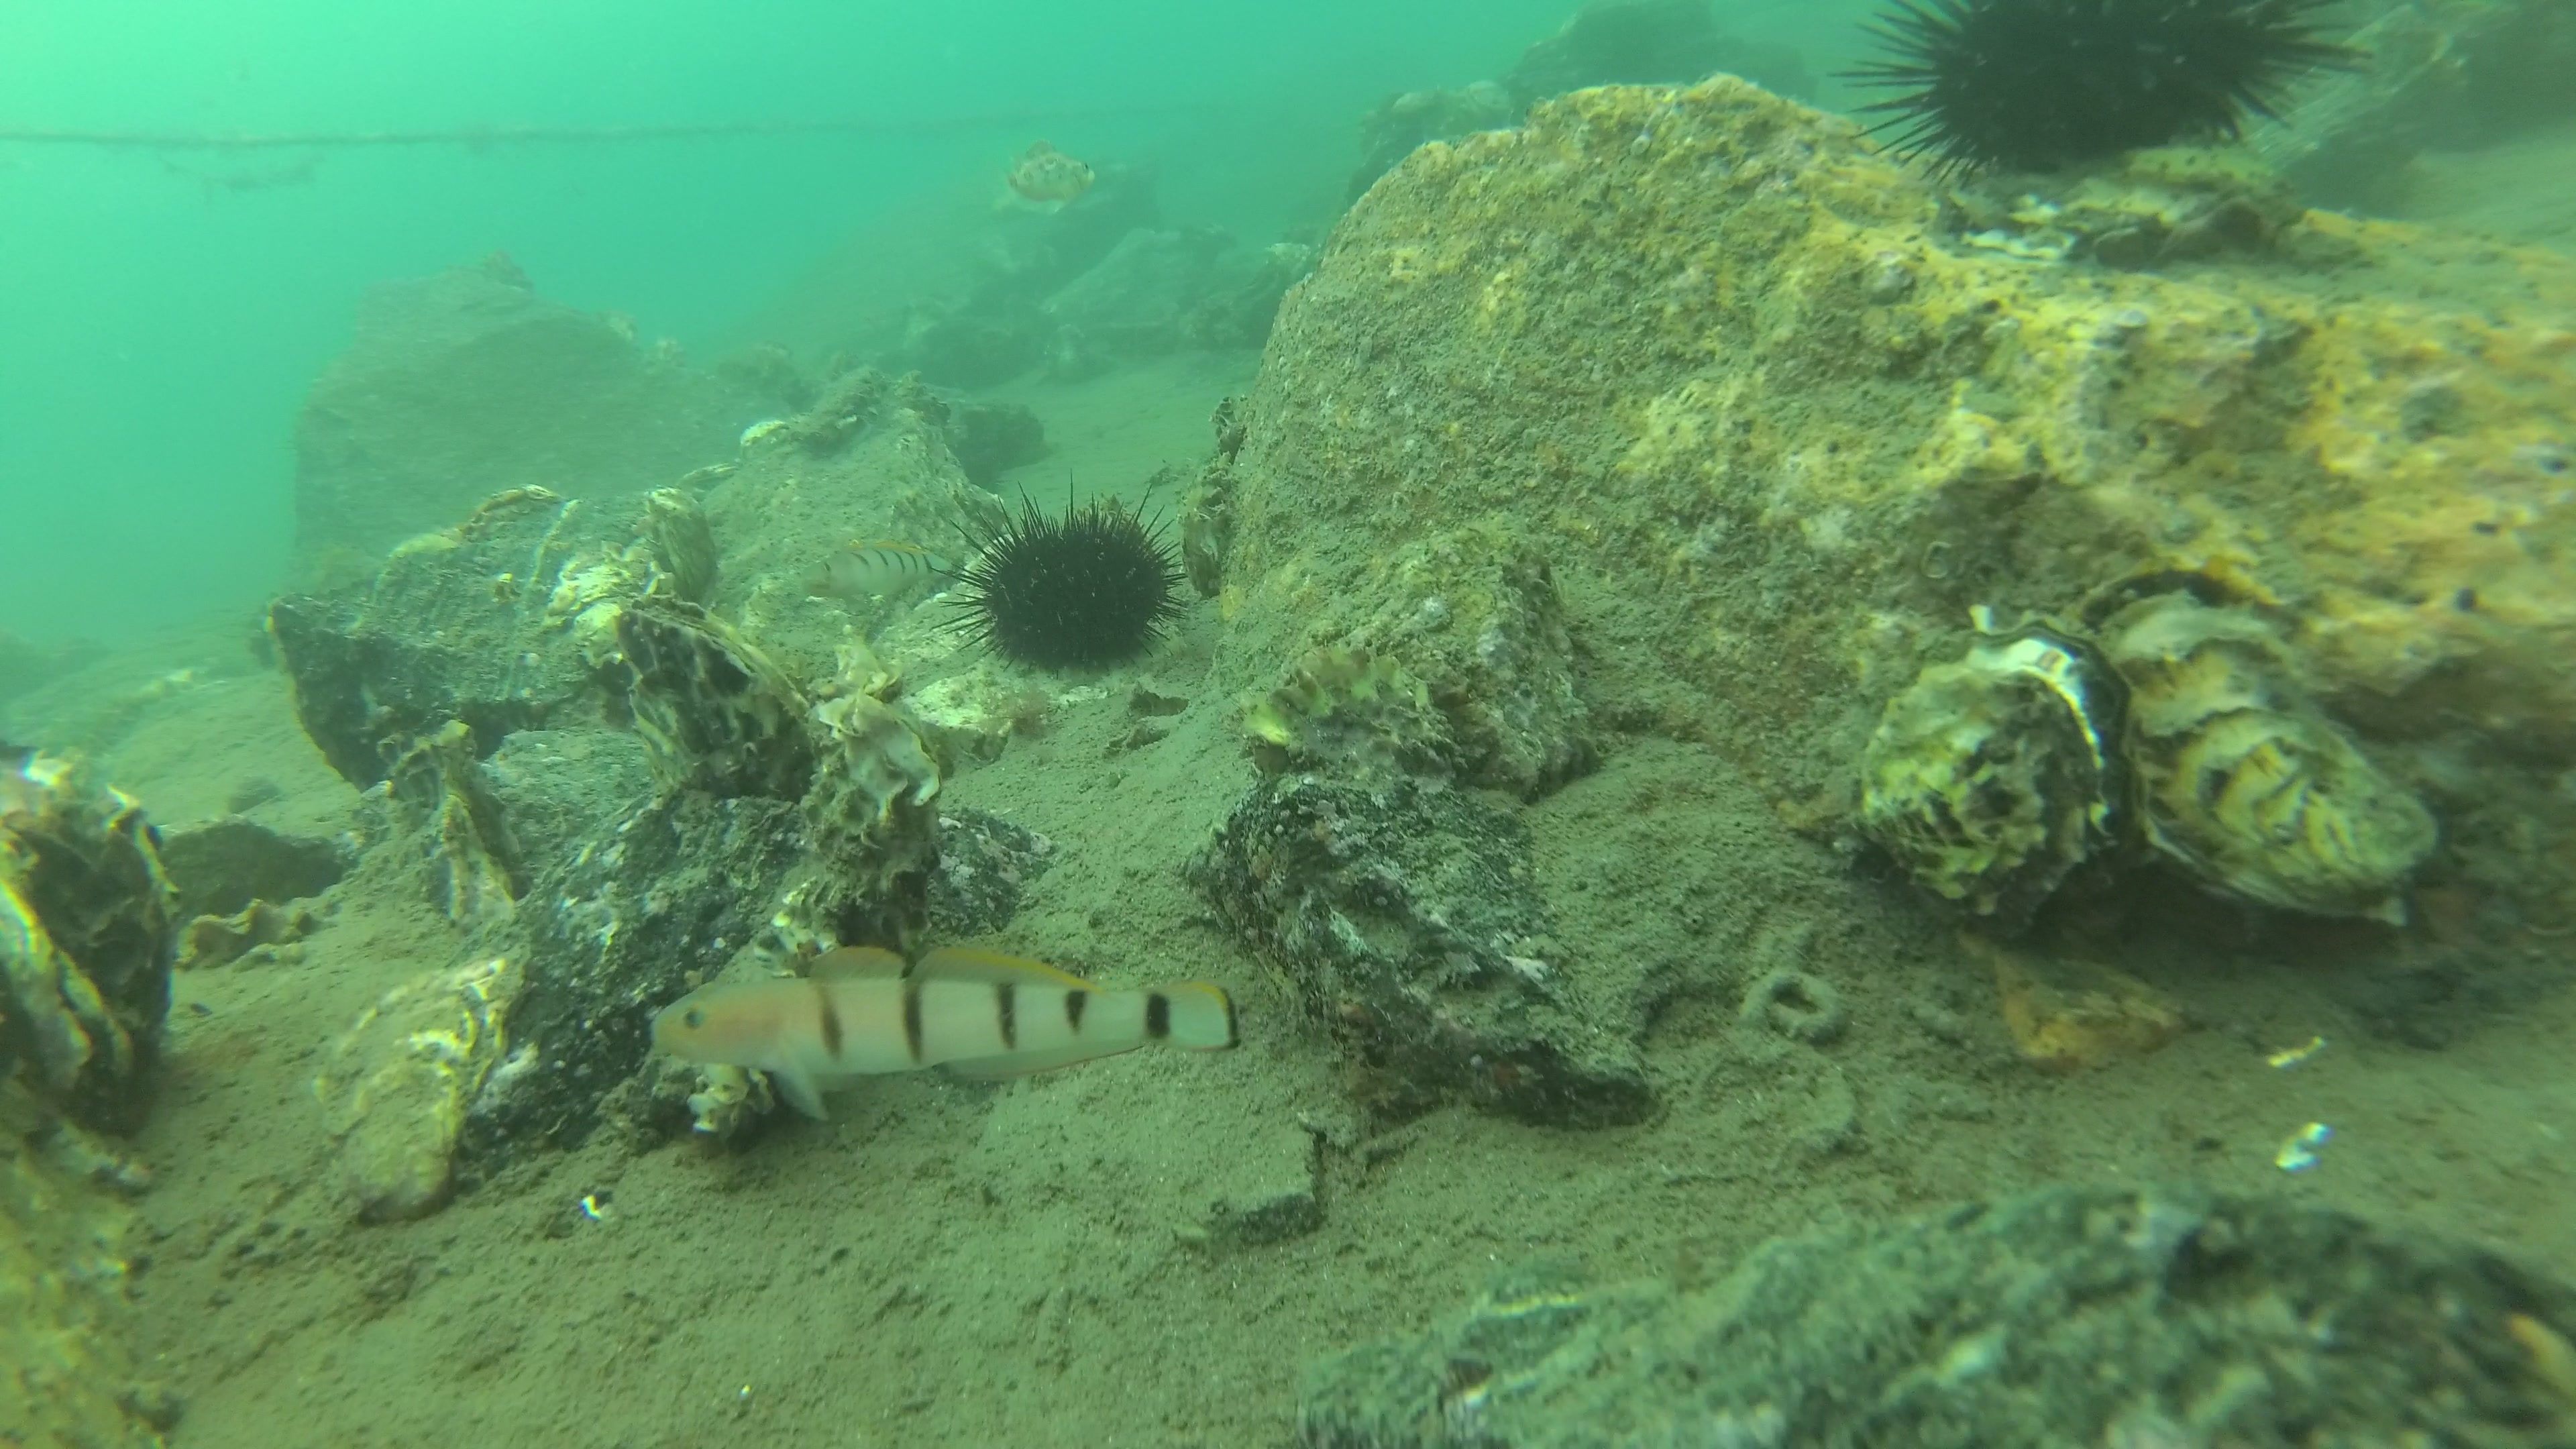echinus: (1822, 0, 2380, 193), (936, 469, 1194, 679)
